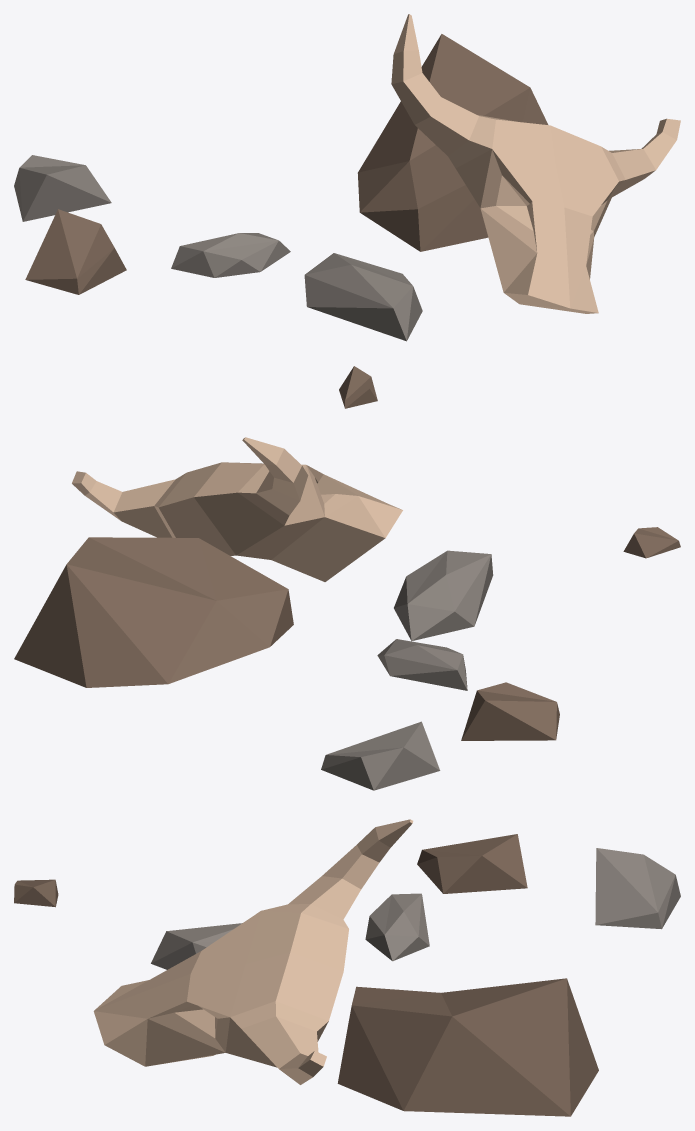
File: Stone with Cow Skull.glb
3 renders of one model, top to bottom at view 1: azimuth 30°, elevation 25°; view 2: azimuth 150°, elevation 25°; view 3: azimuth 270°, elevation 25°, orthographic. The views are drawn at different scales.
Visible parts, largest first — view 1: Stone 8 cow skull; view 2: Stone 8 cow skull; view 3: Stone 8 cow skull.
Boxes of the visible parts, x1=… form: Stone 8 cow skull: x1=14, y1=14, x2=680, y2=408; Stone 8 cow skull: x1=14, y1=437, x2=680, y2=790; Stone 8 cow skull: x1=14, y1=819, x2=680, y2=1116.
Size of what is drawn, in the model's own units: 2.4 by 0.8894 by 2.34.
Materials: 1 (1 with a texture image).
